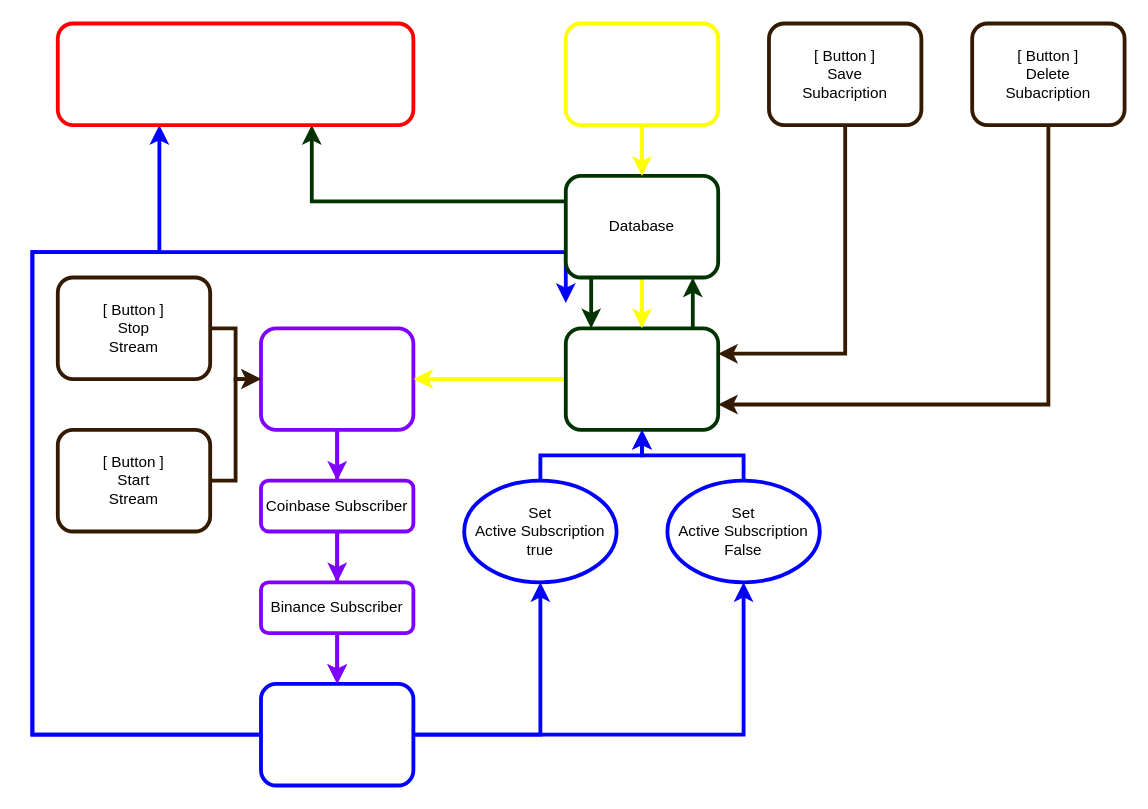
The diagram is 1148 pixels wide and 809 high, and some of its shapes have lost their labels. The shapes that lost their labels are listed below. From the top down, each one's centre as x and y in pixels, then its label:
At (235,73): "Frontend".
At (641,73): "App Setup Process".
At (336,378): "Streams Manager".
At (641,378): "Tauri Store".
At (336,734): "Websocket".
